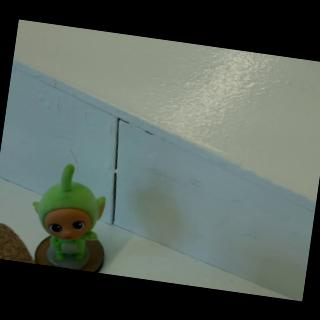teletubby: (33, 164, 105, 261)
